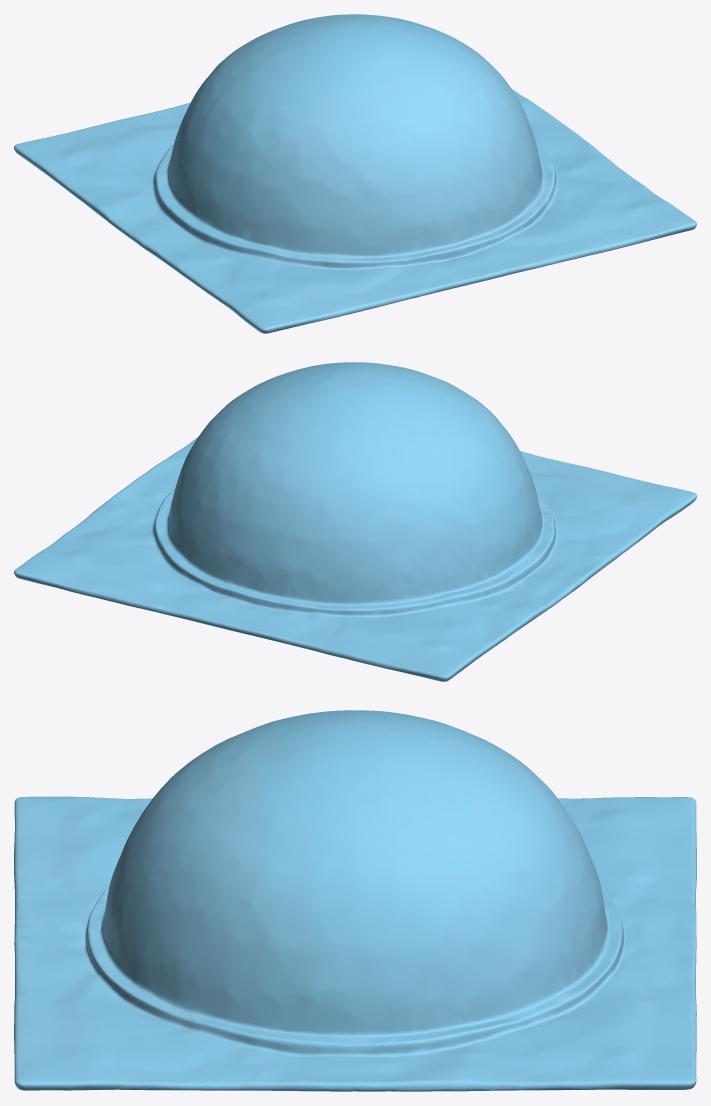
Rendered from bubble_full.glb.
3 renders of one model, top to bottom at view 1: azimuth 30°, elevation 25°; view 2: azimuth 150°, elevation 25°; view 3: azimuth 270°, elevation 25°, orthographic. The views are drawn at different scales.
Bounding box in the file's own units: 2 × 0.6786 × 1.99.
1 material, 1 textured.
